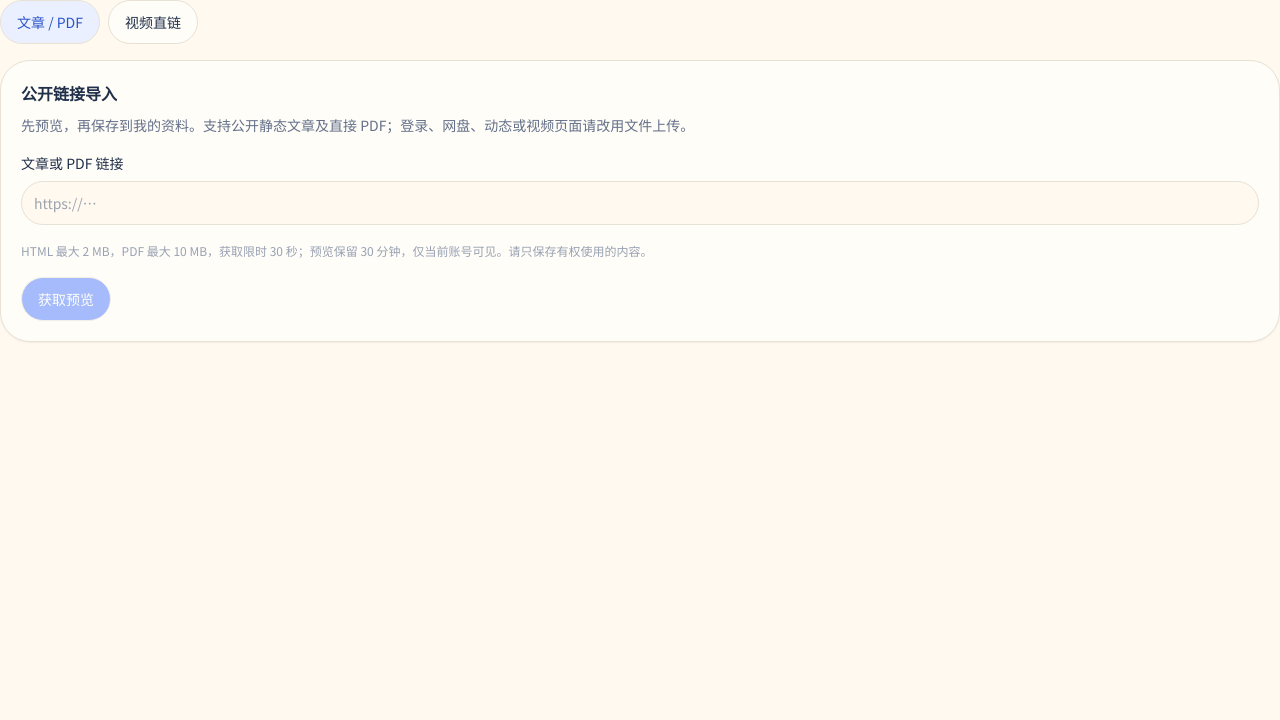
it: keeps an opaque ID after ambiguous failure and recovers without duplicate POST
Type "https://example.org/" into the field named "文章或PDF链接" at point(640, 203), box [21,181,1259,225]
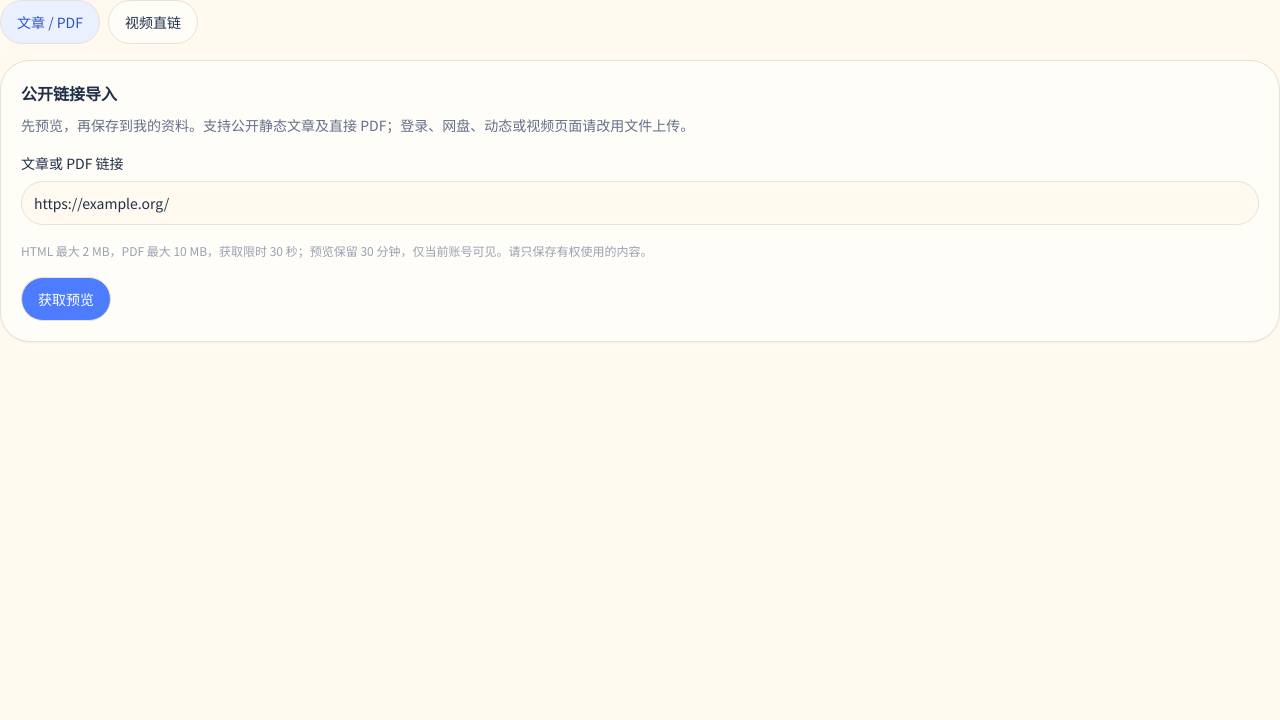
Click the button "获取预览" at point(66, 299), box [21,277,111,321]
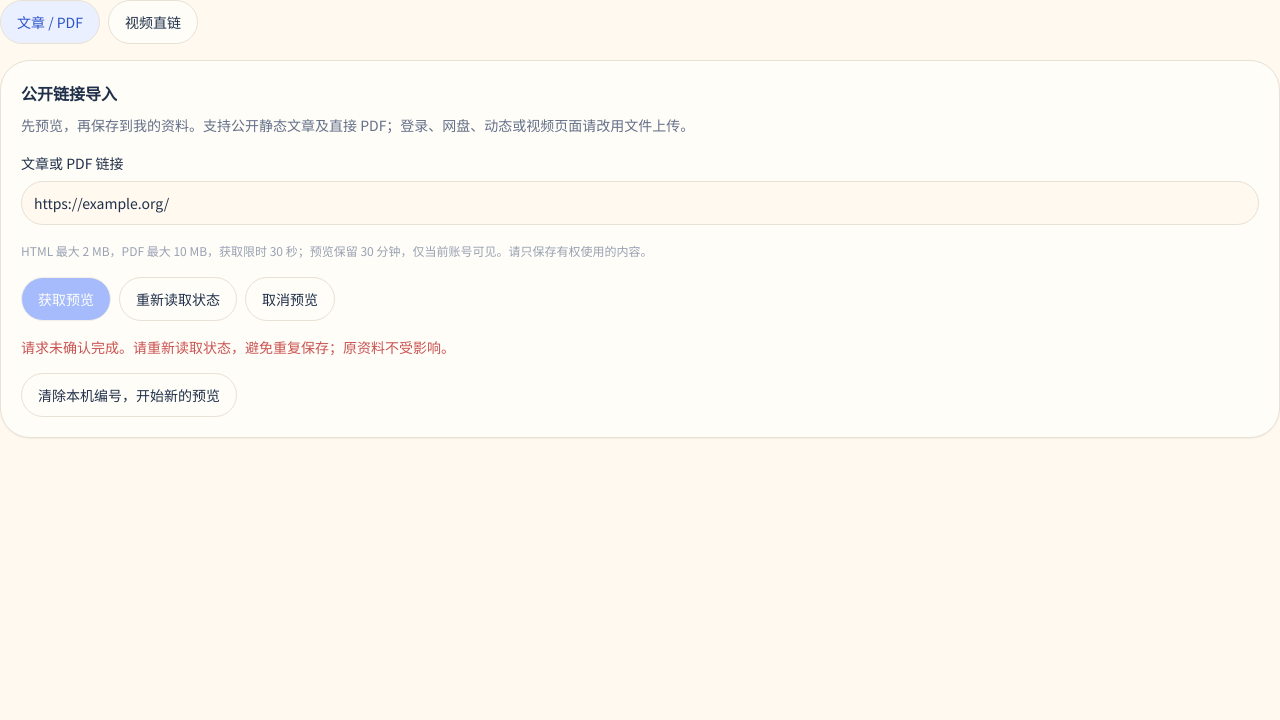
Expected: the message "请求未确认完成。请重新读取状态，避免重复保存；原资料不受影响。" is shown, [21,337,455,357]
Click the button "重新读取状态" at point(178, 299), box [119,277,237,321]
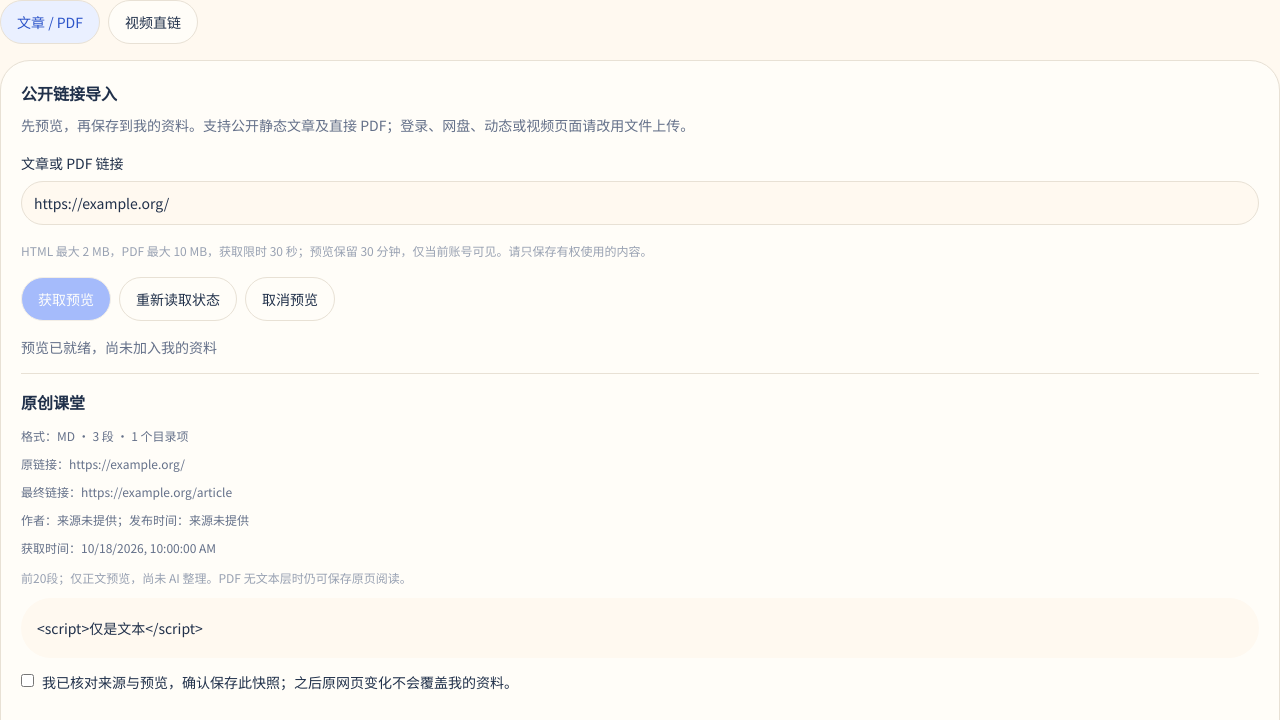
Expected: the heading "原创课堂" is shown, [21,390,85,414]
